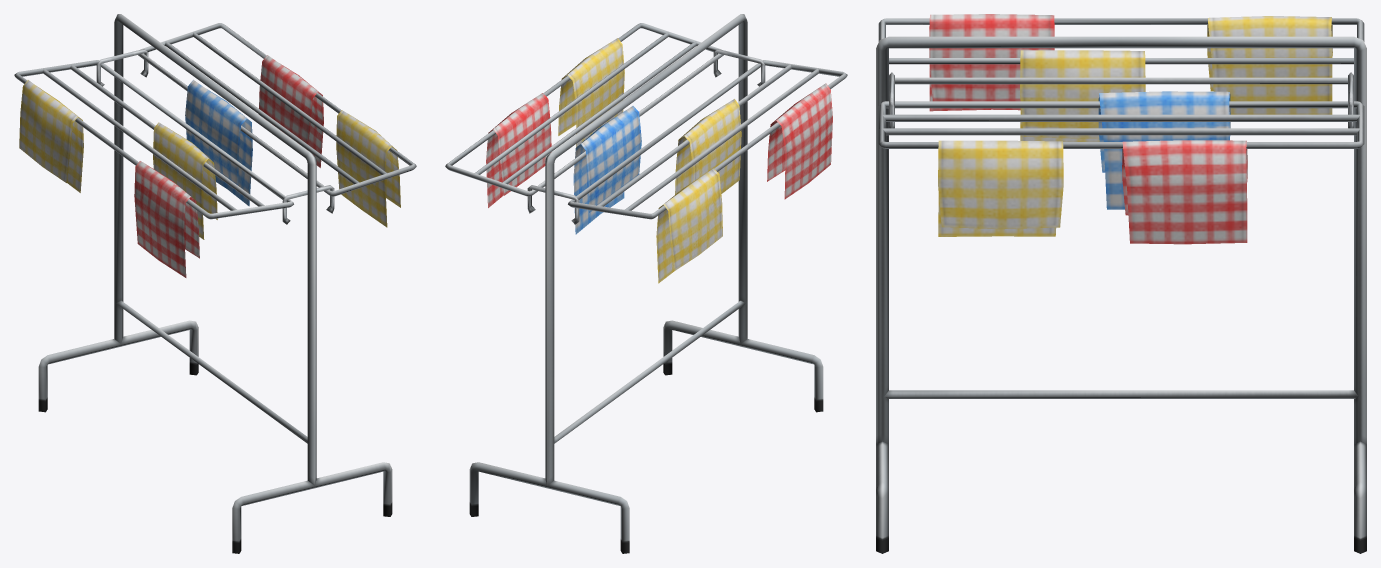
File: KR_Towel_rack_01_01.fbx
3 views of the same model, side by side, from view 1: azimuth 30°, elevation 25°; view 2: azimuth 150°, elevation 25°; view 3: azimuth 270°, elevation 25° (orthographic). The views are drawn at different scales.
Parts seen in each view (by area): view 1: Towel_rack, duster_06, duster_05, duster_04, duster_01, duster_02, duster_03; view 2: Towel_rack, duster_06, duster_05, duster_04, duster_02, duster_01, duster_03; view 3: Towel_rack, duster_02, duster_01, duster_05, duster_06, duster_03, duster_04.
Boxes of the visible parts, box(x1,y1,x2,y2) form: Towel_rack: box(14, 14, 416, 553); duster_06: box(134, 161, 199, 277); duster_05: box(19, 80, 83, 192); duster_04: box(185, 79, 252, 206); duster_01: box(336, 110, 400, 227); duster_02: box(259, 55, 323, 167); duster_03: box(153, 122, 217, 239); Towel_rack: box(445, 14, 847, 553); duster_06: box(767, 83, 832, 199); duster_05: box(656, 168, 722, 283); duster_04: box(573, 106, 641, 234); duster_02: box(486, 93, 551, 207); duster_01: box(558, 38, 624, 147); duster_03: box(675, 99, 741, 194); Towel_rack: box(876, 18, 1366, 553); duster_02: box(1122, 140, 1247, 244); duster_01: box(938, 140, 1063, 236); duster_05: box(1207, 16, 1332, 114); duster_06: box(929, 14, 1054, 111); duster_03: box(1020, 50, 1145, 141); duster_04: box(1098, 91, 1230, 209).
Bounding box in the file's own units: 42.42 × 68 × 64.5.
